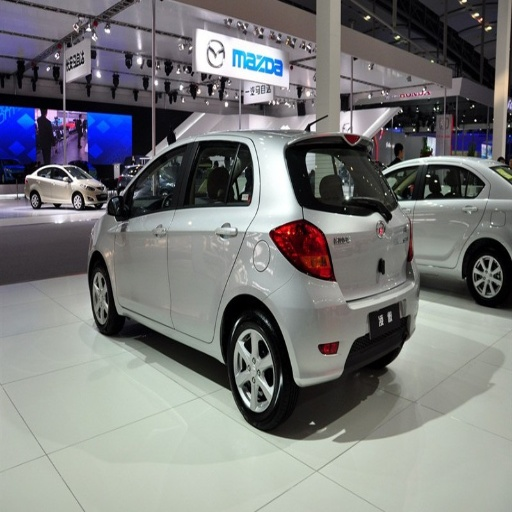back_bumper: (266, 271, 418, 389)
back_glass: (284, 142, 386, 213)
back_left_door: (168, 137, 255, 339), (439, 166, 483, 248)
tailgate: (322, 227, 401, 296)
trunk: (317, 210, 408, 282)
